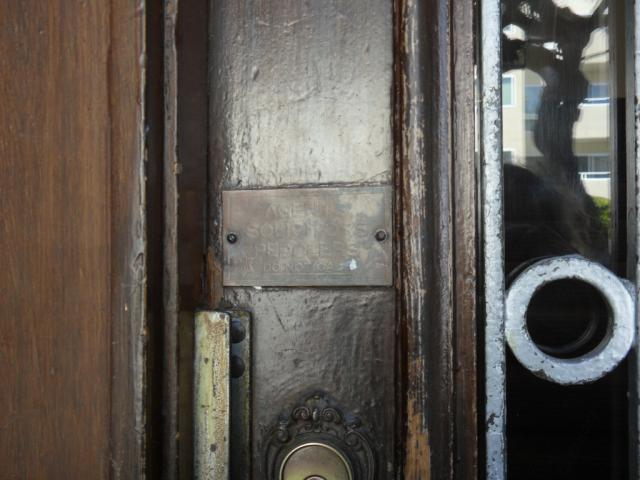Door-handle: (192, 308, 254, 480)
